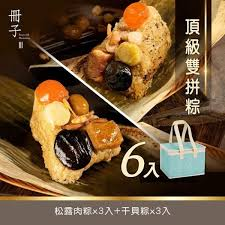zongzi: (30, 80, 123, 183), (82, 0, 170, 98)
